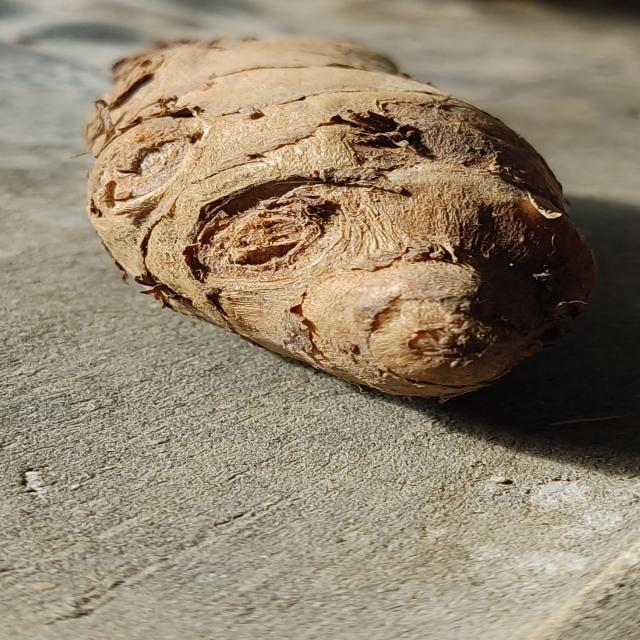ginger: (109, 34, 586, 394)
